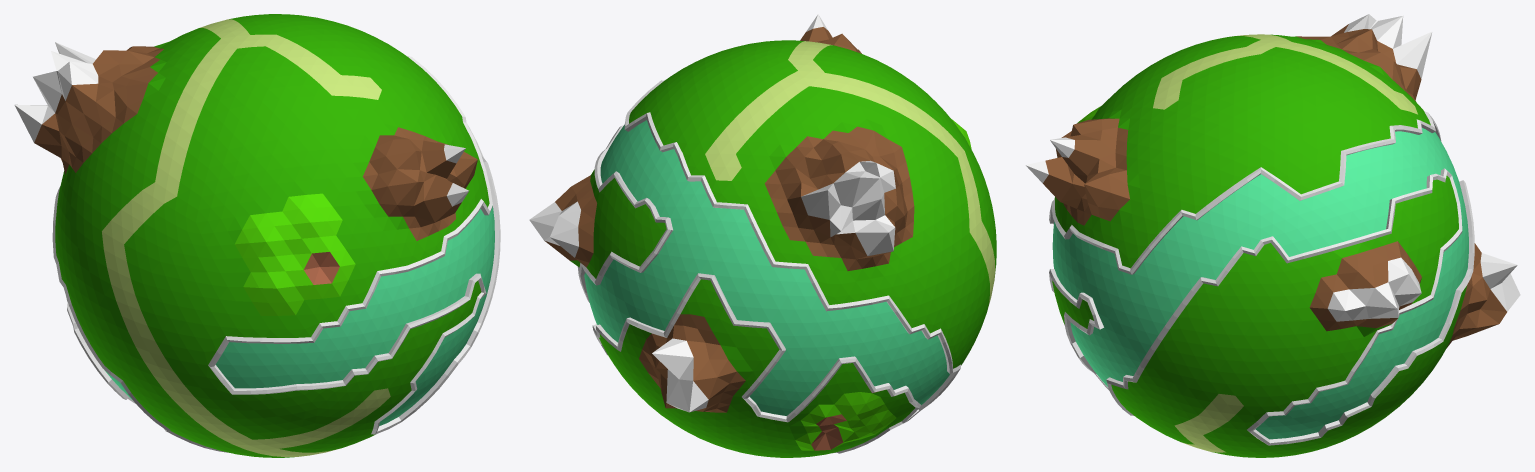
File: Terrain.fbx
3 renders of one model, left to right at view 1: azimuth 30°, elevation 25°; view 2: azimuth 150°, elevation 25°; view 3: azimuth 270°, elevation 25°, orthographic. The views are drawn at different scales.
Parts seen in each view (by area): view 1: Terrain, Mountain_Sea, Obstacle; view 2: Terrain, Mountain_Sea, Obstacle; view 3: Terrain, Mountain_Sea, Obstacle.
Boxes of the visible parts, x1,y1,x2,y2 form: Terrain: (55,14,489,457); Mountain_Sea: (14,42,494,426); Obstacle: (52,56,500,452); Terrain: (570,40,996,457); Mountain_Sea: (529,14,949,415); Obstacle: (577,80,960,453); Terrain: (1052,34,1466,457); Mountain_Sea: (1025,14,1520,439); Obstacle: (1049,111,1474,445).
Size of the model in its own units: 1256 by 1220 by 1426.
